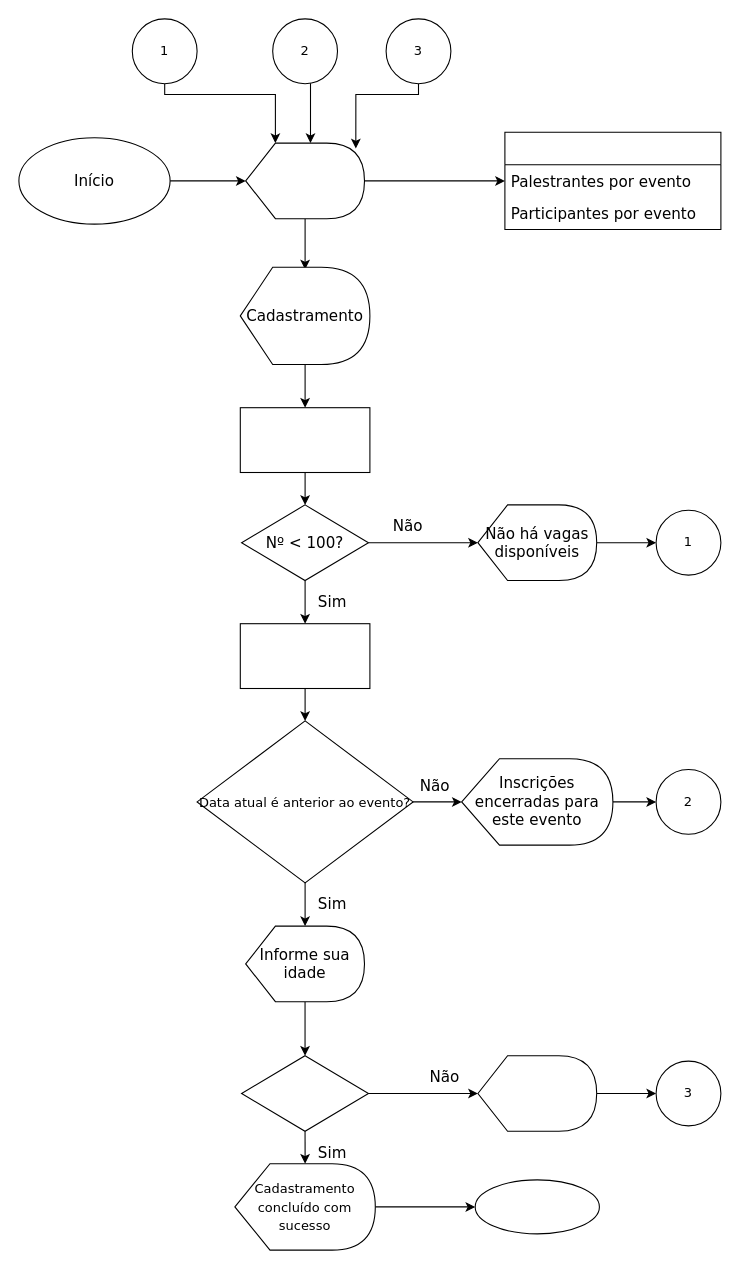
The diagram is 740 pixels wide and 1269 high, and some of its shapes have lost their labels. The box of each missing label's shape, as (x1, y1, x2, y2) in pixels:
Consultando data do evento: (239, 623, 370, 688)
Consultando número de vagas: (239, 407, 370, 473)
Fim: (474, 1179, 599, 1234)
Idade > 18?: (241, 1055, 368, 1131)
Idade não permitida: (477, 1055, 597, 1131)
Listagem: (504, 131, 721, 230)
Menu do evento: (245, 142, 364, 219)
